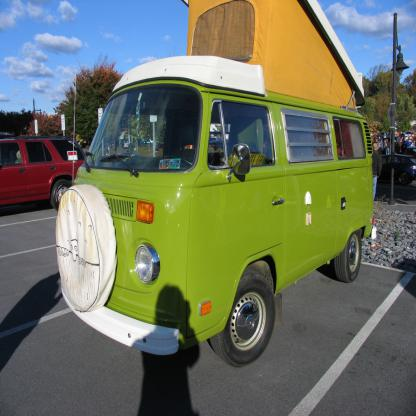Bus: (56, 1, 376, 368)
